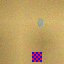person: (37, 17, 43, 26)
